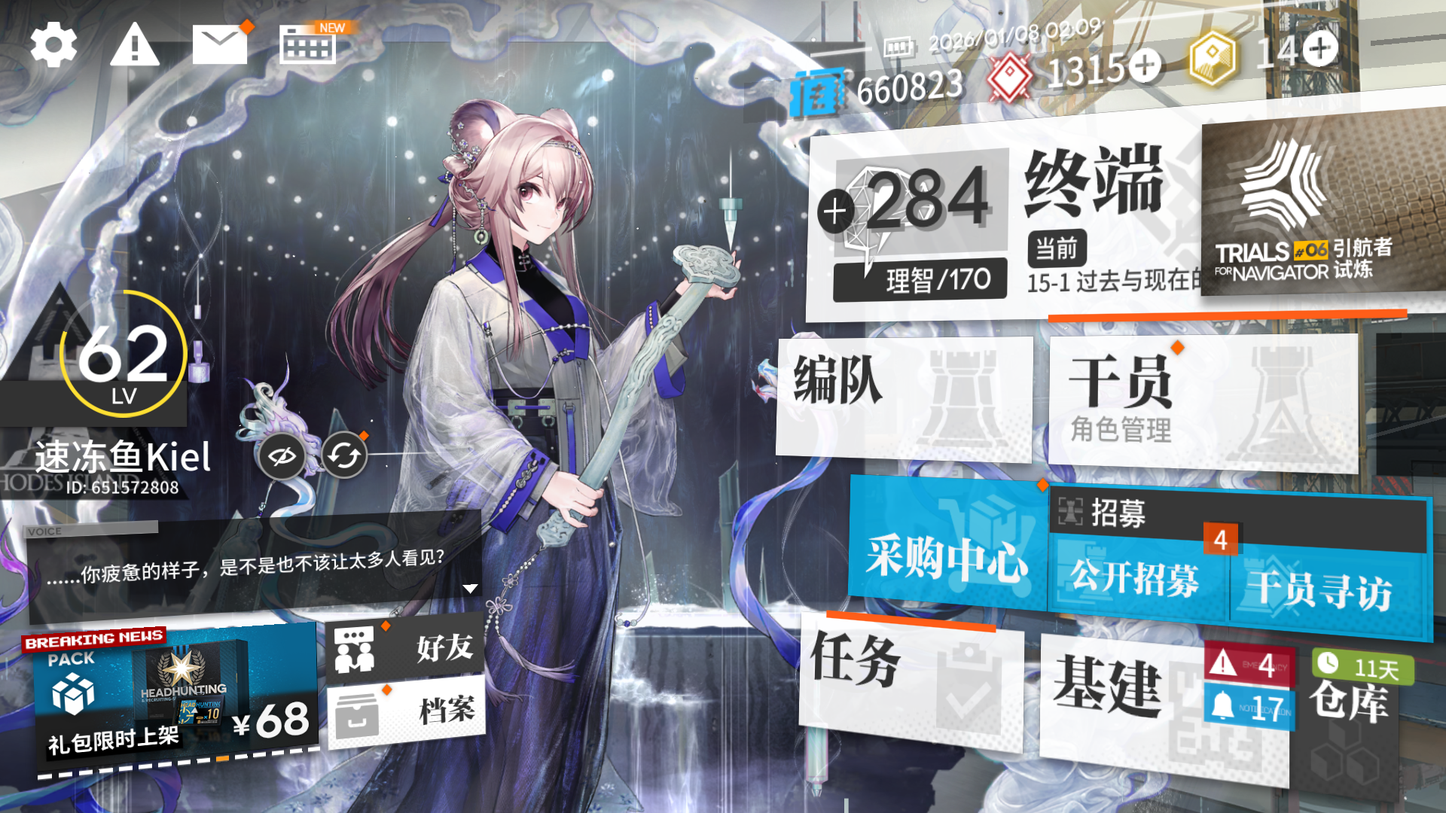home_button: (1010, 123, 1197, 225)
infrastructure_button: (1036, 644, 1274, 780)
